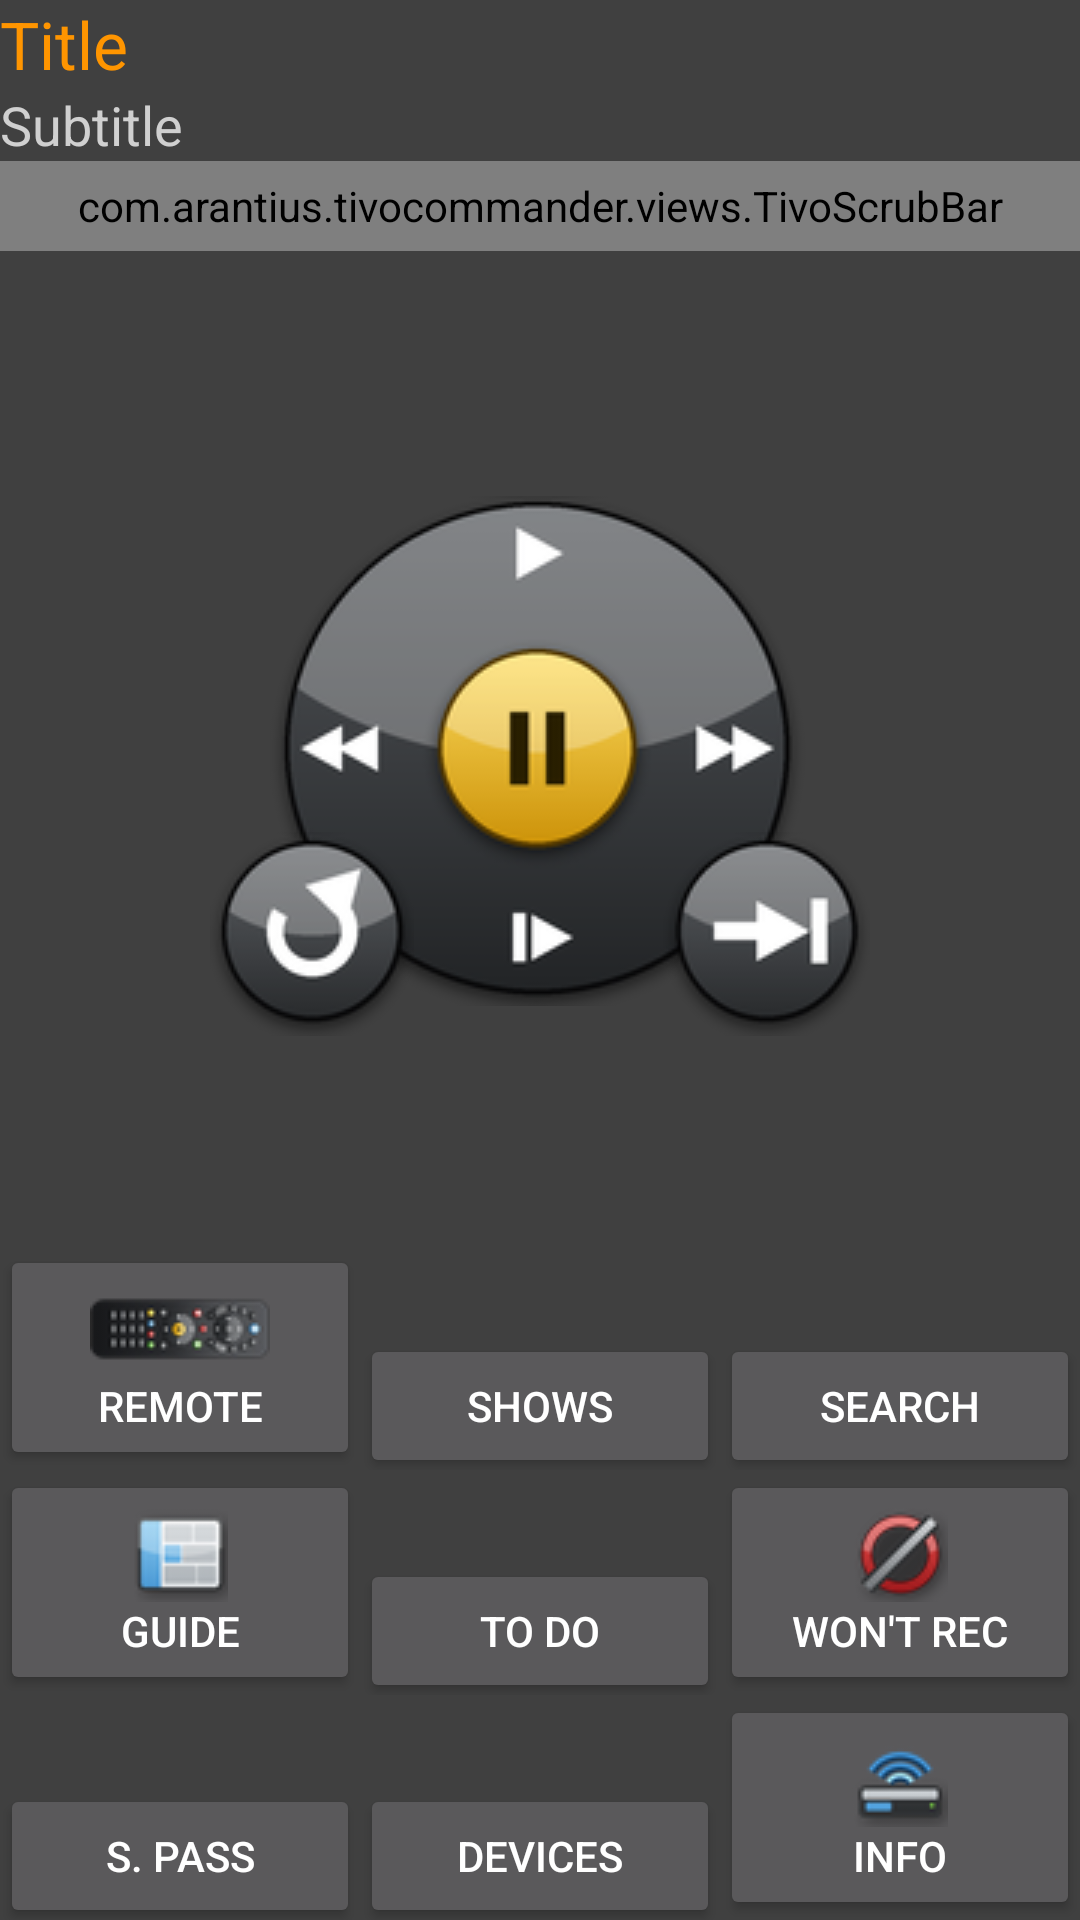

Where icons sit on this 1080px x 1920px app screen, as (x1, y1, x2, y2):
Advance: (663, 832, 863, 1033)
Replay: (216, 832, 414, 1033)
